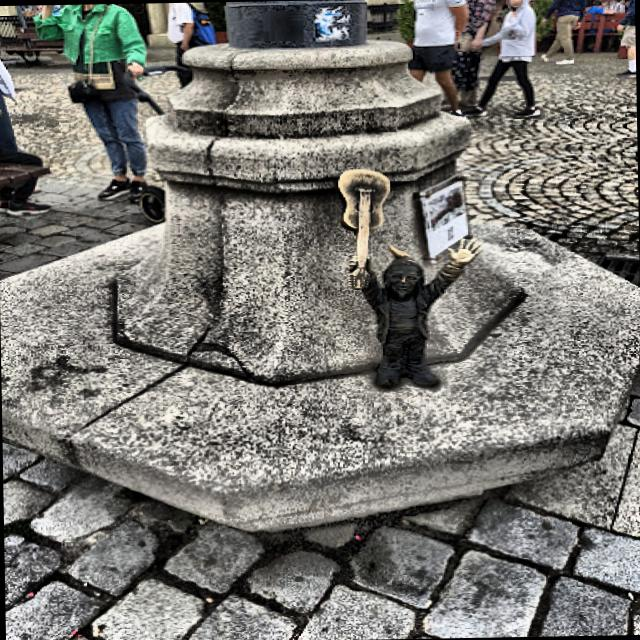Leszko_z_Wroclawia: (336, 169, 481, 389)
